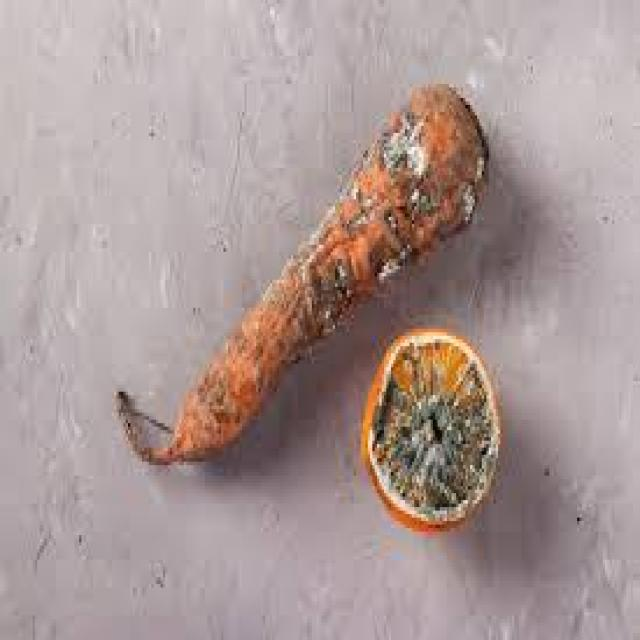Stale_Carrot: (172, 94, 489, 457), (364, 334, 499, 516)
